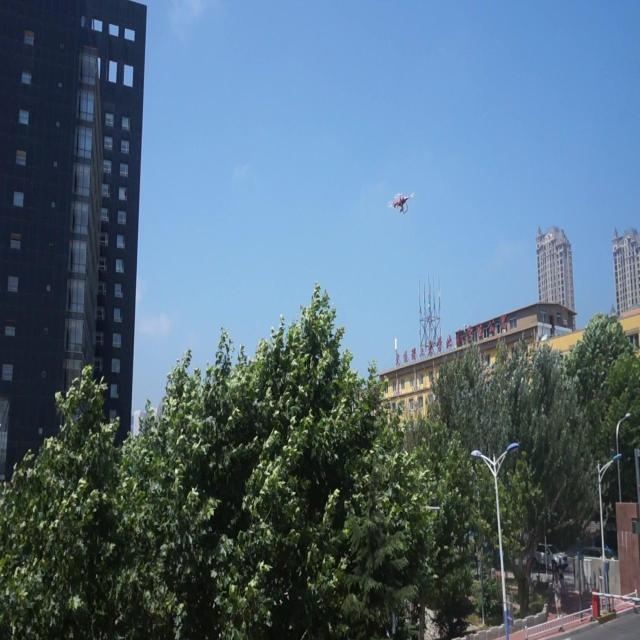drone: (386, 192, 416, 218)
